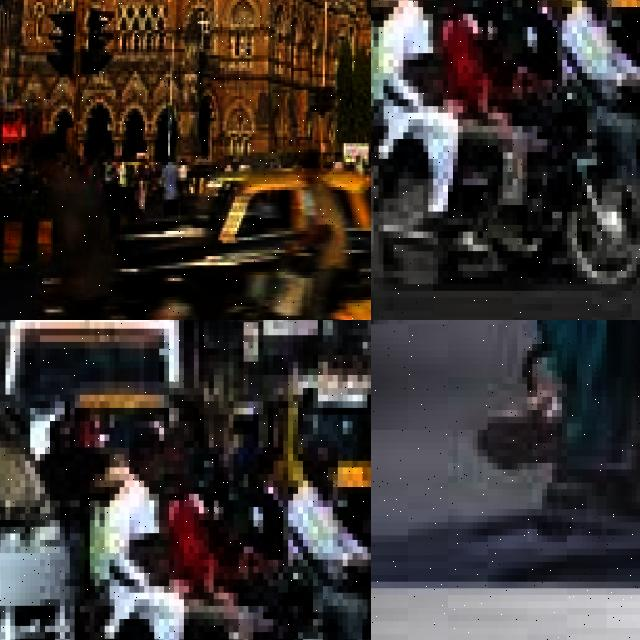bike: (373, 92, 640, 317), (542, 320, 640, 528), (99, 572, 371, 640)
